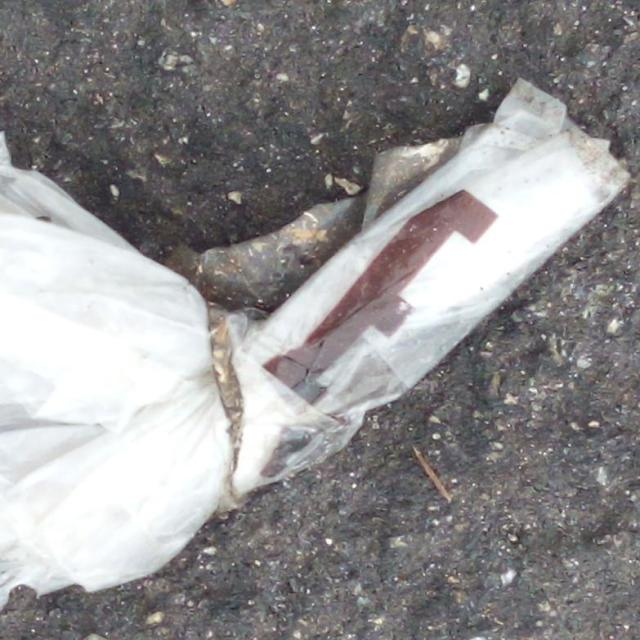litter: (2, 65, 633, 620)
